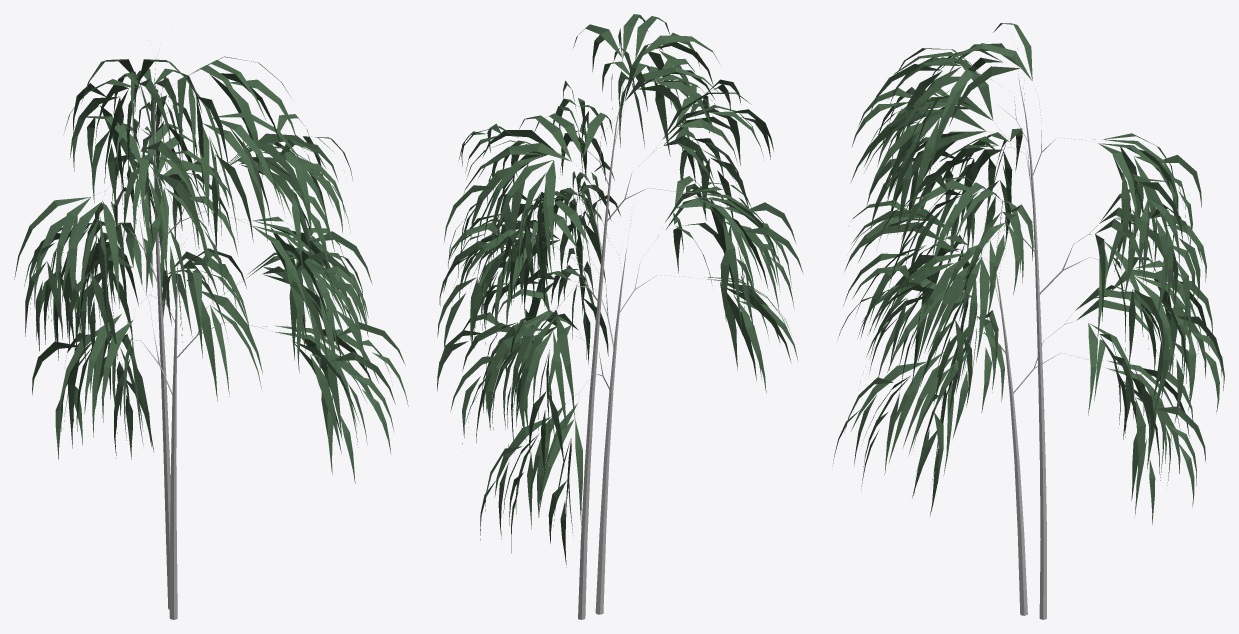
Rendered from Bamboo.fbx.
3 renders of one model, left to right at view 1: azimuth 30°, elevation 25°; view 2: azimuth 150°, elevation 25°; view 3: azimuth 270°, elevation 25°, orthographic. The views are drawn at different scales.
Parts seen in each view (by area): view 1: bamboo1Leaf, bamboo1Main; view 2: bamboo1Leaf, bamboo1Main; view 3: bamboo1Leaf, bamboo1Main.
Part boxes in pixels (box(x1,y1,x2,y2)): bamboo1Leaf: box(14, 56, 408, 483); bamboo1Main: box(85, 14, 286, 619); bamboo1Leaf: box(437, 14, 803, 567); bamboo1Main: box(504, 67, 713, 619); bamboo1Leaf: box(832, 23, 1224, 524); bamboo1Main: box(932, 48, 1140, 619).
Bounding box in the file's own units: 7.6 × 12.33 × 7.59.
